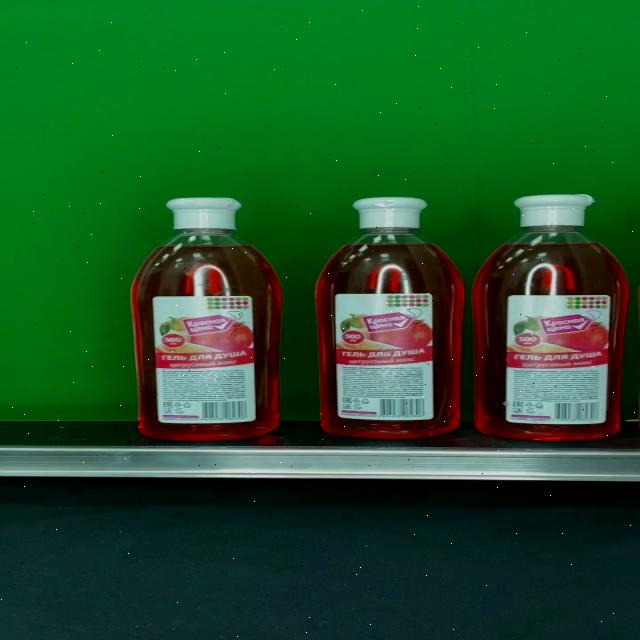Bottle: (473, 194, 630, 440), (314, 196, 466, 438), (133, 197, 282, 440)
Cap: (513, 194, 595, 228), (165, 197, 242, 230), (352, 196, 429, 229)
